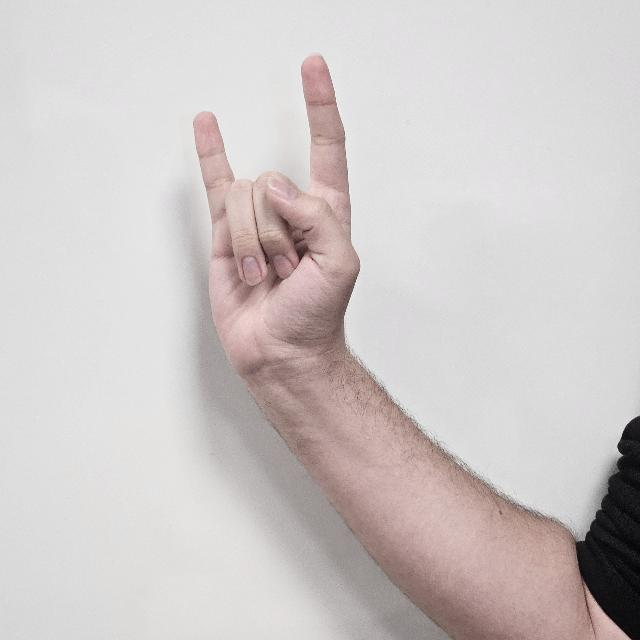L: (189, 55, 363, 375)
